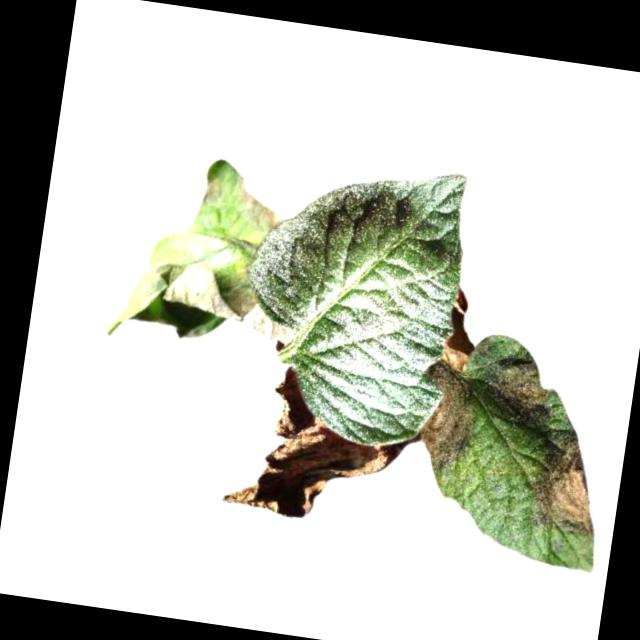Late_blight: (227, 359, 402, 533), (525, 430, 617, 540), (409, 360, 481, 476), (195, 277, 301, 346), (476, 350, 558, 425), (441, 287, 486, 374), (228, 175, 289, 235), (140, 258, 189, 306), (202, 177, 222, 206)
healthy: (227, 146, 473, 456)
